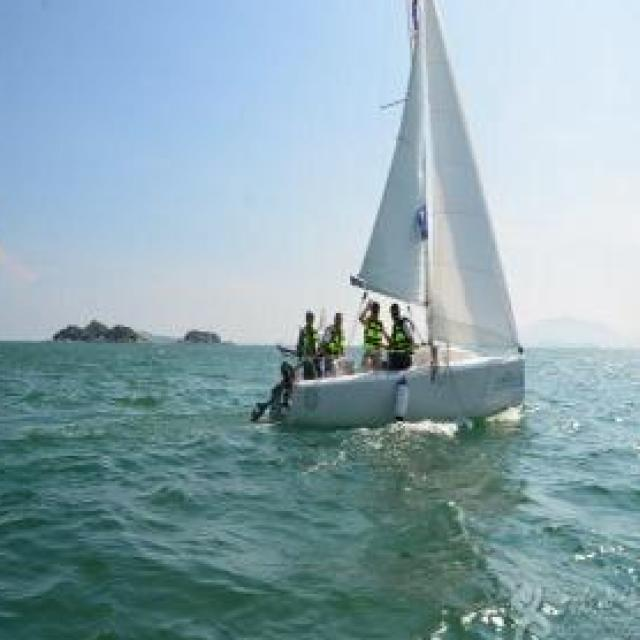sailboat: (246, 0, 530, 433)
